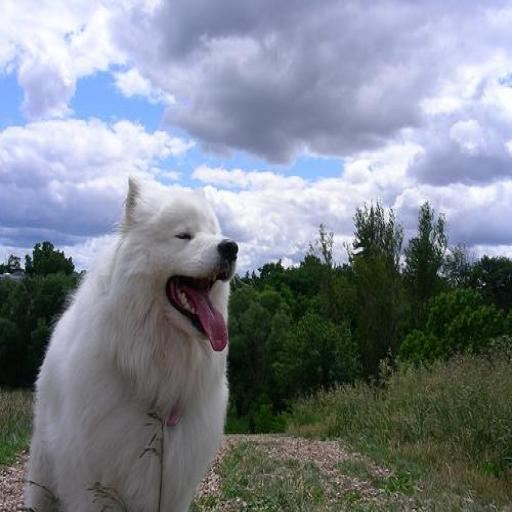dog_face: (116, 177, 240, 362)
